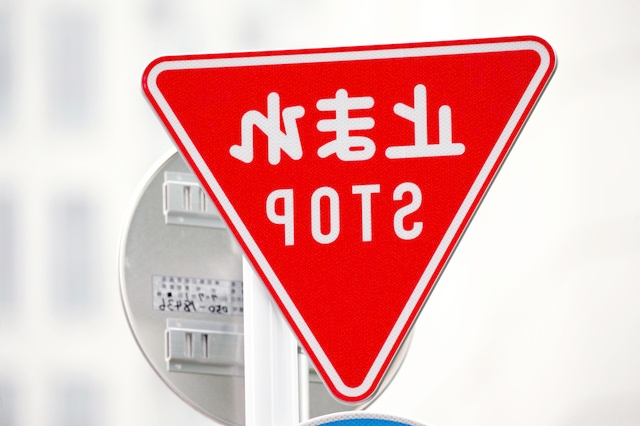Regulatory_sign_triangle: (125, 31, 569, 418)
